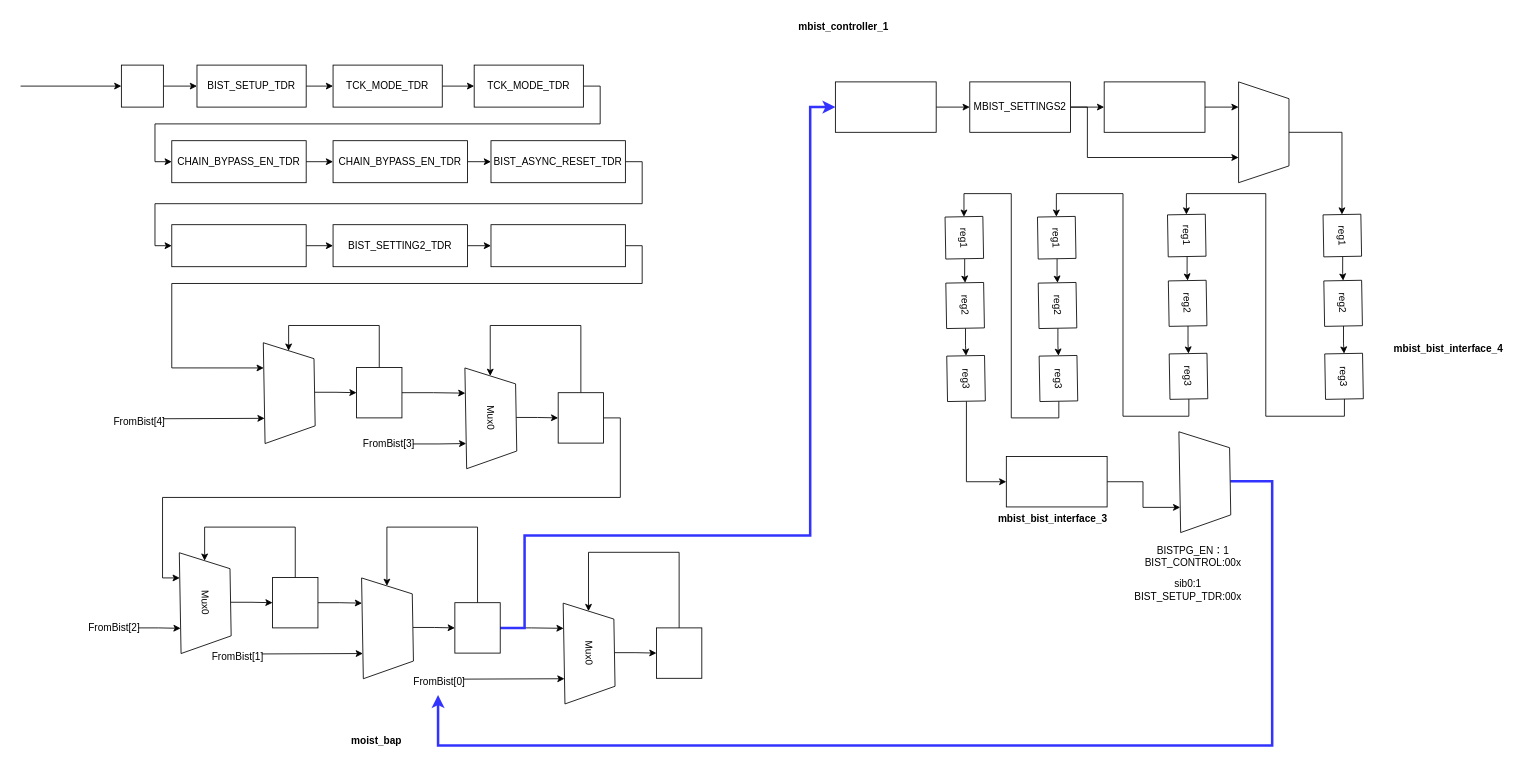
Image size: 1530x768. Some labels were removed from this diagram. Here are the shapes that lost their labels. From the top down, the centre of each, then its label:
At [142,85]: "tdr".
At [885,106]: "MBIST_SETTINGS1".
At [1154,106]: "MBIST_SETTINGS3".
At [238,245]: "BIST_SETTING1_TDR".
At [557,245]: "BIST_SETTING3_TDR".
At [379,392]: "sib_4".
At [580,417]: "sib_3".
At [1056,481]: "MBIST_RESULT".
At [295,602]: "sib_2".
At [477,627]: "sib_1".
At [679,652]: "sib_0".
